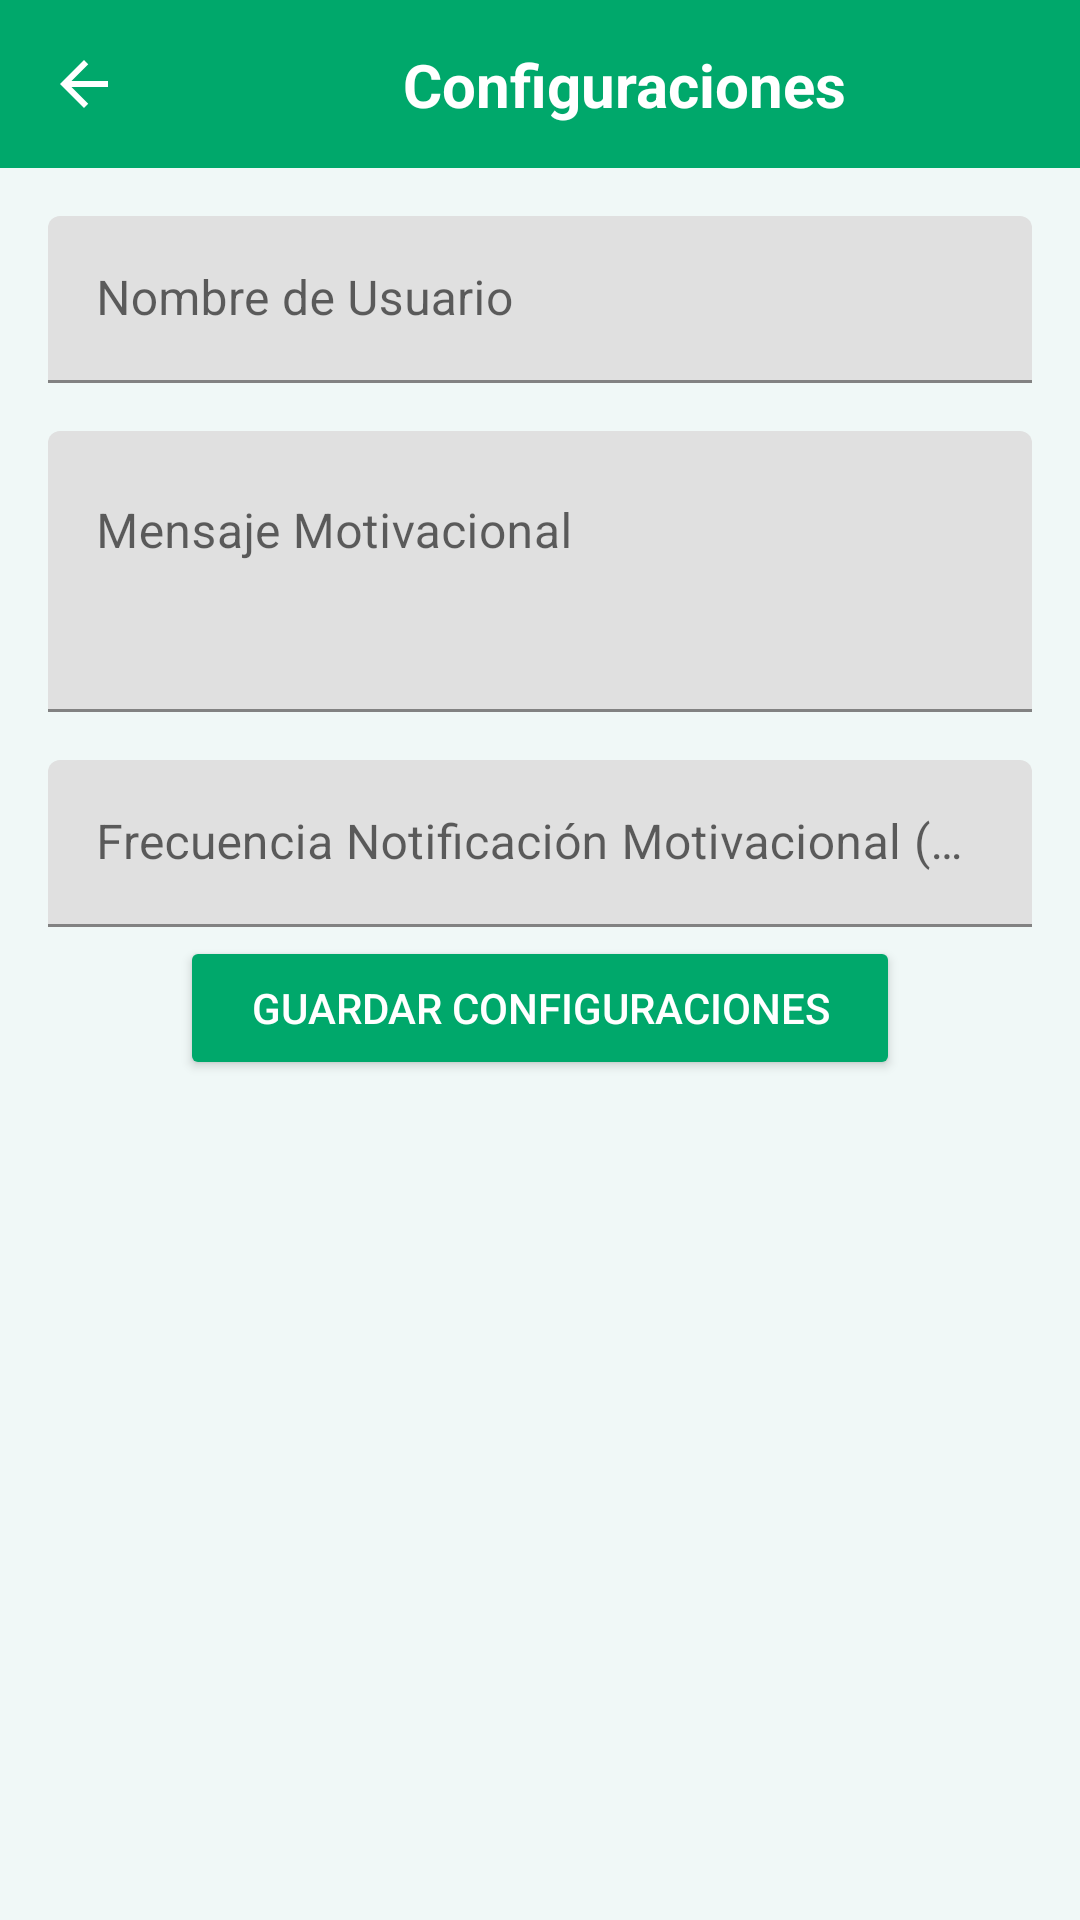

Icons on this 1080 × 1920 Android screen, each with its box as (x1, y1, x2, y2):
Volver: (60, 60, 108, 108)
